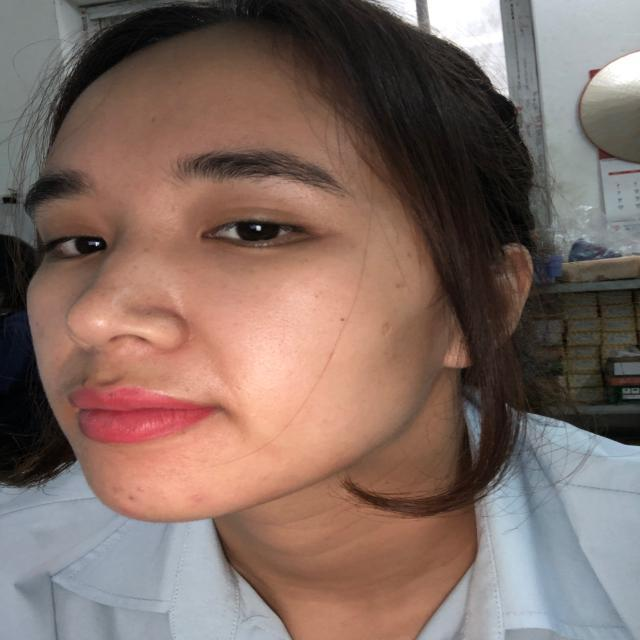Acne: (101, 472, 154, 507), (93, 284, 121, 306), (376, 317, 399, 339), (140, 106, 160, 126), (76, 369, 94, 387), (386, 277, 408, 291)
